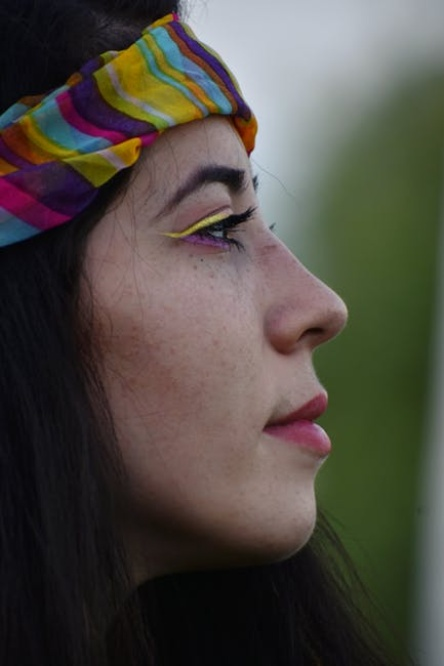face: (82, 118, 350, 556)
